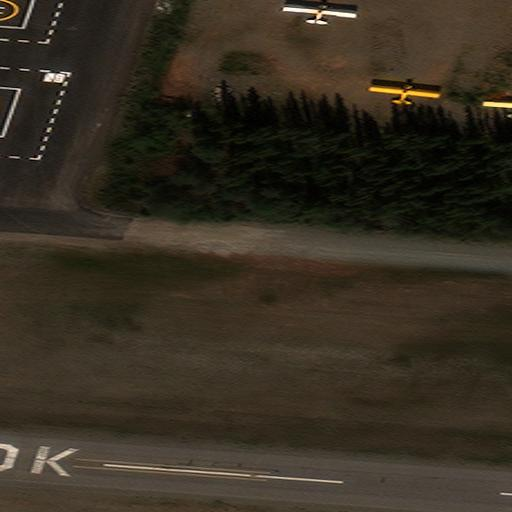Small Civil Transport: (283, 3, 357, 24), (369, 85, 440, 105), (483, 98, 511, 116)
